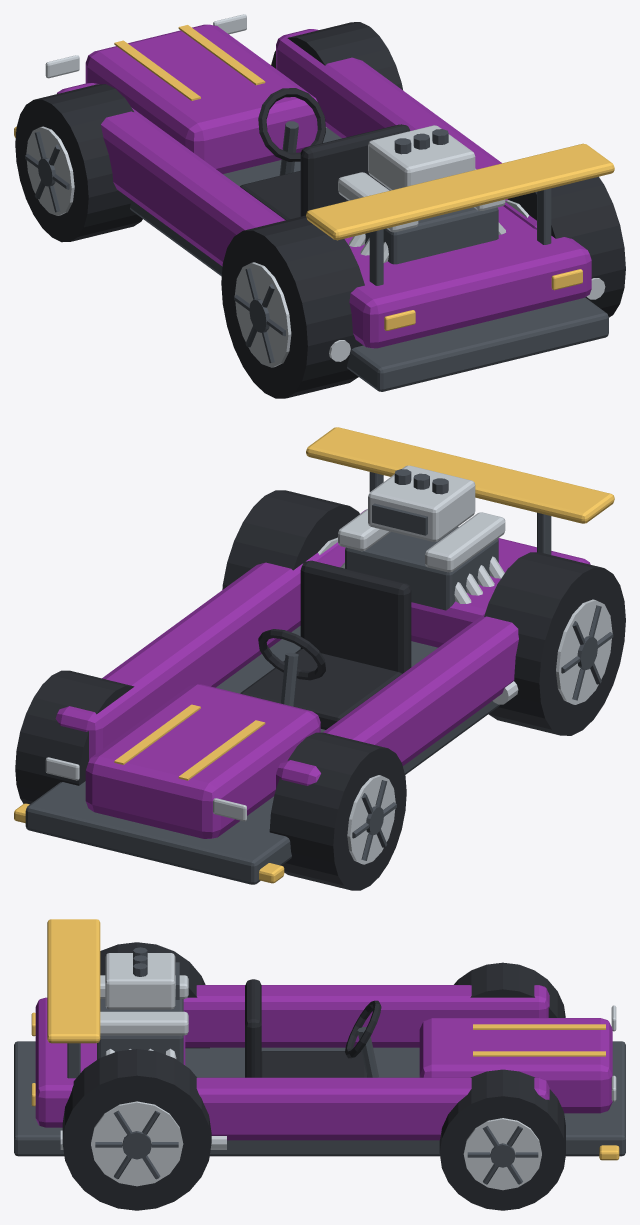
File: dragster.fbx
3 renders of one model, top to bottom at view 1: azimuth 30°, elevation 25°; view 2: azimuth 150°, elevation 25°; view 3: azimuth 270°, elevation 25°, orthographic. The views are drawn at different scales.
Parts seen in each view (by area): view 1: WheelRL, PaintNose, PaintRearDeck, WheelFL, Chassis, PaintSidePod, AccentWing, PaintSidePod.001, WheelRR, EngineIntake, EngineBlock, SeatBack (+10 smaller); view 2: PaintNose, WheelRL, PaintSidePod.001, WheelFL, Chassis, PaintSidePod, SeatBack, AccentWing, WheelFR, WheelRR, EngineBlock, Seat (+9 smaller); view 3: WheelRR, PaintSidePod, PaintSidePod.001, WheelFR, Chassis, PaintNose, AccentWing, PaintRearDeck, EngineIntake, WheelFL, Seat, ValveCover.001 (+8 smaller).
Boxes of the visible parts, x1=… form: WheelRL: x1=221, y1=215, x2=364, y2=398; PaintNose: x1=85, y1=24, x2=317, y2=173; PaintRearDeck: x1=344, y1=206, x2=591, y2=348; WheelFL: x1=15, y1=84, x2=142, y2=242; Chassis: x1=130, y1=127, x2=608, y2=391; PaintSidePod: x1=57, y1=83, x2=285, y2=266; AccentWing: x1=306, y1=143, x2=614, y2=240; PaintSidePod.001: x1=276, y1=29, x2=536, y2=229; WheelRR: x1=505, y1=176, x2=625, y2=317; EngineIntake: x1=368, y1=125, x2=475, y2=190; EngineBlock: x1=345, y1=186, x2=498, y2=264; SeatBack: x1=300, y1=124, x2=410, y2=216; PaintNose: x1=85, y1=684, x2=320, y2=838; WheelRL: x1=484, y1=552, x2=625, y2=735; PaintSidePod.001: x1=55, y1=542, x2=339, y2=760; WheelFL: x1=269, y1=732, x2=406, y2=890; Chassis: x1=25, y1=626, x2=499, y2=884; PaintSidePod: x1=276, y1=614, x2=518, y2=788; SeatBack: x1=300, y1=560, x2=411, y2=673; AccentWing: x1=306, y1=427, x2=614, y2=523; WheelFR: x1=15, y1=670, x2=134, y2=804; WheelRR: x1=222, y1=490, x2=359, y2=589; EngineBlock: x1=345, y1=527, x2=498, y2=610; Seat: x1=240, y1=649, x2=401, y2=729; WheelRR: x1=62, y1=1049, x2=211, y2=1210; PaintSidePod: x1=183, y1=985, x2=549, y2=1047; PaintSidePod.001: x1=196, y1=1077, x2=549, y2=1140; WheelFR: x1=439, y1=1069, x2=565, y2=1210; Chassis: x1=14, y1=1041, x2=625, y2=1156; PaintNose: x1=419, y1=1018, x2=612, y2=1113; AccentWing: x1=47, y1=919, x2=100, y2=1043; PaintRearDeck: x1=35, y1=997, x2=185, y2=1127; EngineIntake: x1=105, y1=953, x2=175, y2=1009; WheelFL: x1=454, y1=962, x2=565, y2=1017; Seat: x1=261, y1=1051, x2=368, y2=1077; ValveCover.001: x1=100, y1=1011, x2=188, y2=1035.
Bounding box in the file's own units: 495 × 308 × 920.
